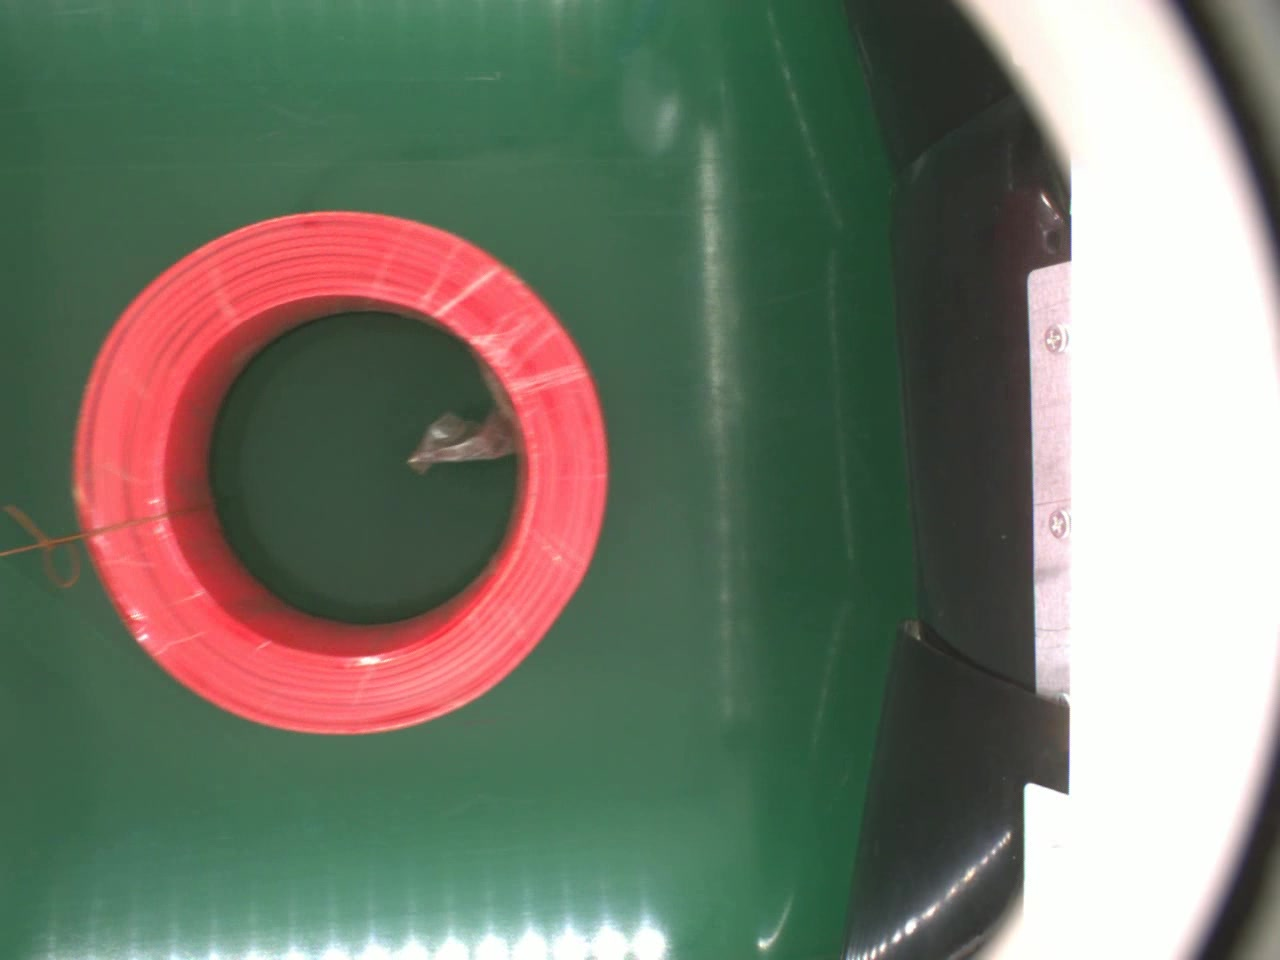red: (70, 206, 613, 737)
